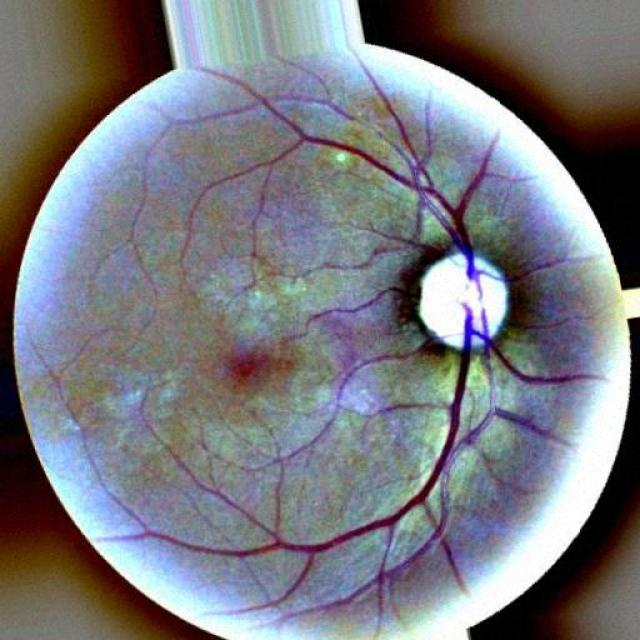Macula: (227, 344, 278, 393)
Nerves: (280, 330, 475, 560), (302, 139, 469, 263)
Optic Disk: (416, 251, 515, 355)
